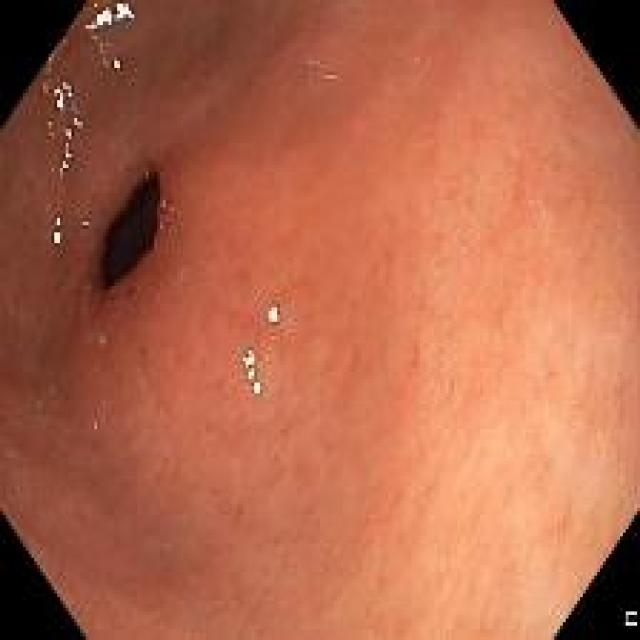bubbles: (160, 199, 174, 215), (162, 223, 173, 234), (19, 397, 30, 408), (34, 400, 42, 408)
contrast: (99, 170, 160, 288)
specularity: (84, 7, 112, 31), (51, 79, 72, 110), (266, 303, 283, 325), (114, 1, 132, 20), (239, 350, 256, 367), (61, 144, 70, 170), (251, 380, 263, 397), (53, 228, 61, 243), (70, 117, 82, 127), (111, 57, 119, 69), (53, 216, 61, 227), (64, 127, 70, 140), (246, 368, 254, 377)
